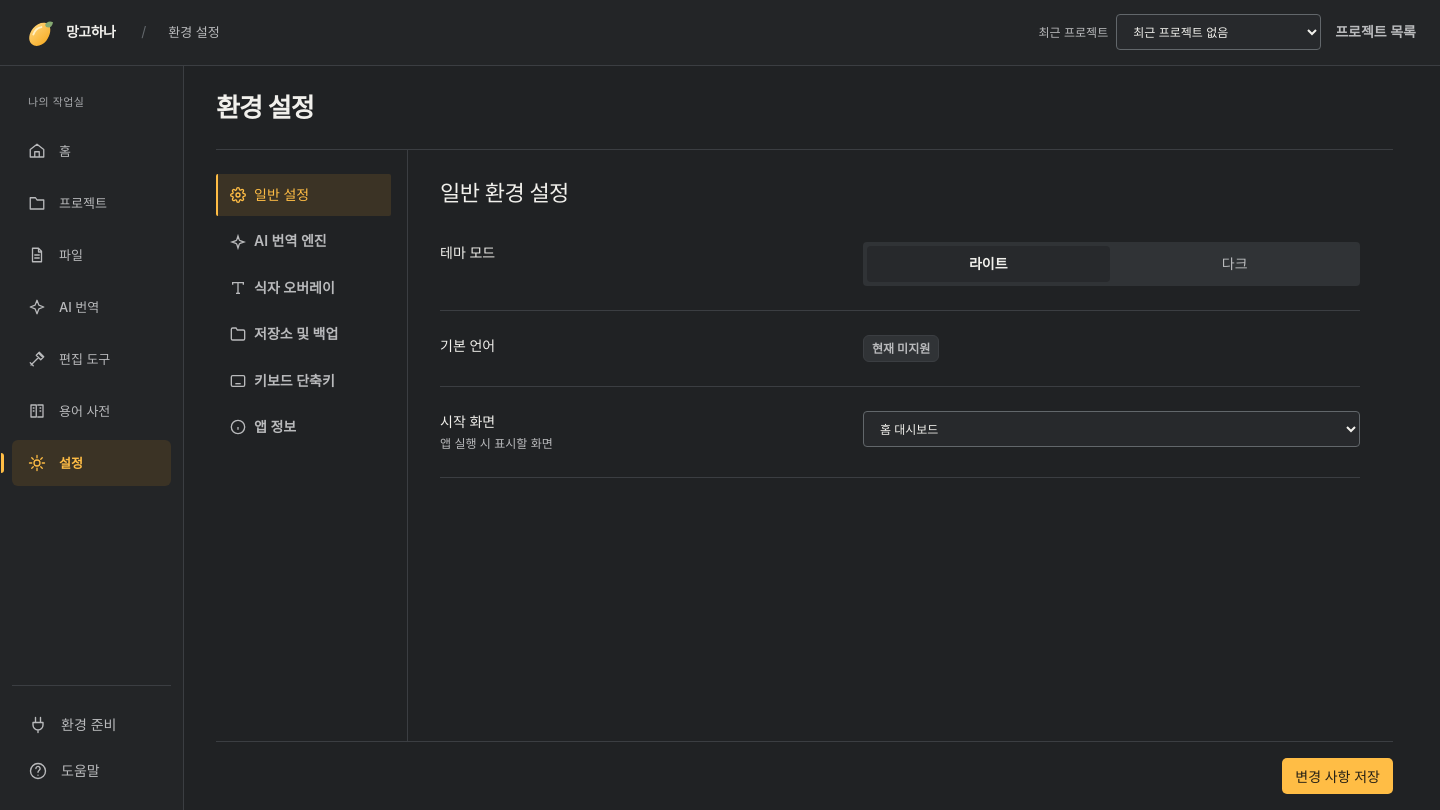
Scenario: SettingsPage › shows save feedback toast and updates provider settings in Main when clicking save button
This screenshot has width=1440, height=810.
What coordinates should you click on to do the following:
click the button with aria-label "설정 저장"
I would click on:
 (1338, 776)
Its box is [1282, 758, 1393, 794].
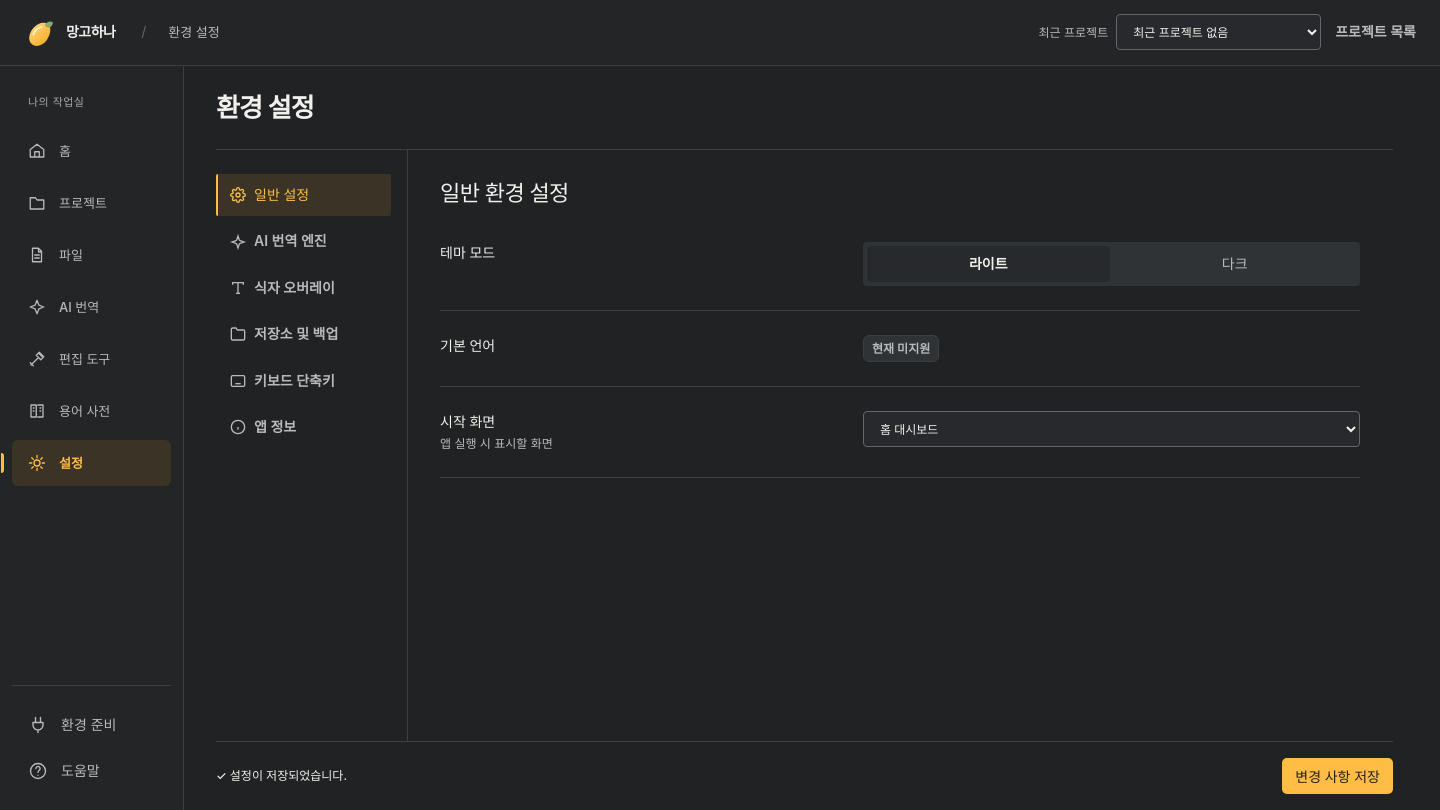
Result: the text "✓ 설정이 저장되었습니다." is shown at [216, 768, 347, 783]
